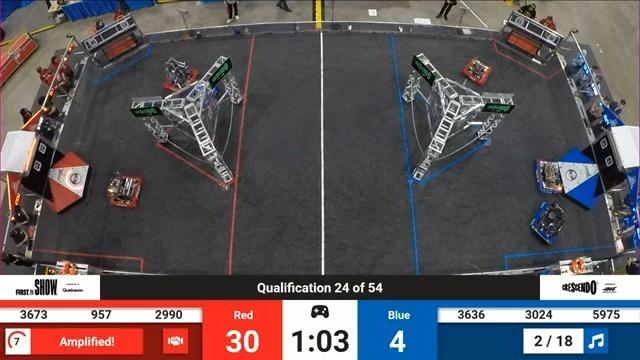robot: (102, 168, 146, 214), (531, 202, 571, 245), (181, 81, 228, 113), (158, 54, 195, 91), (530, 157, 563, 195), (464, 54, 491, 84)
